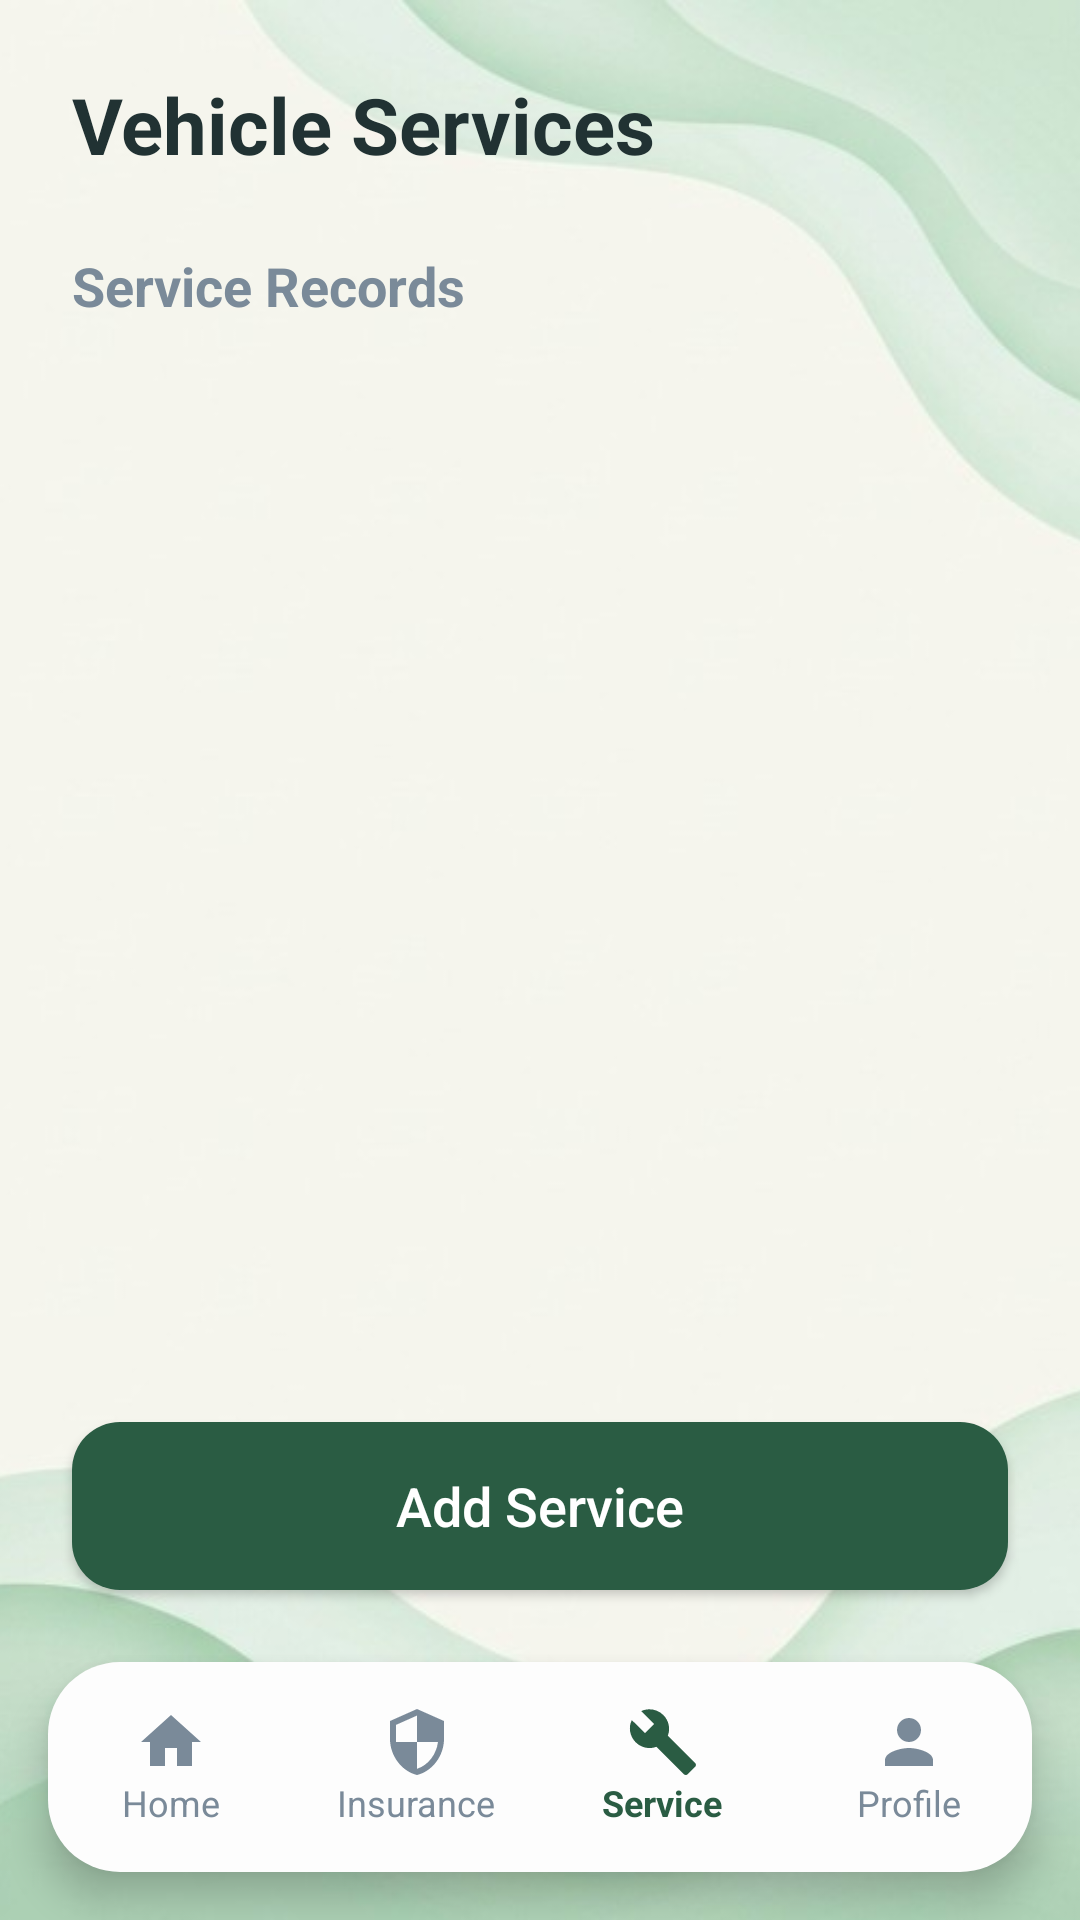

Icon bounding boxes for this 1080 x 1920 phone screenshot, format region(x1, y1, x2, y2):
person: region(885, 1718, 933, 1766)
